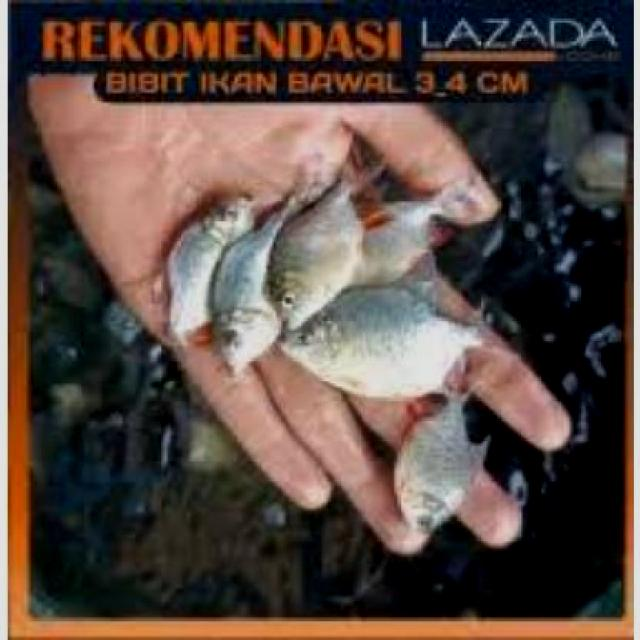ikan-pacu: (290, 287, 507, 393), (384, 394, 490, 526), (265, 186, 353, 331)
